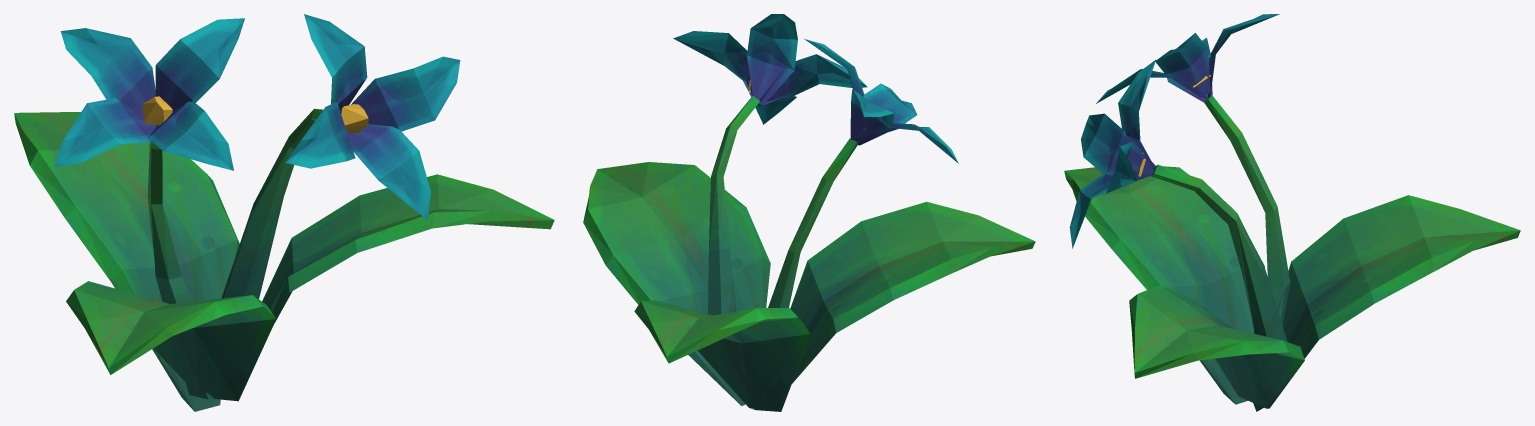
The model's file is VEG0310017.fbx.
3 renders of one model, left to right at view 1: azimuth 30°, elevation 25°; view 2: azimuth 150°, elevation 25°; view 3: azimuth 270°, elevation 25°, orthographic. The views are drawn at different scales.
Parts seen in each view (by area): view 1: smVEG0310017; view 2: smVEG0310017; view 3: smVEG0310017.
Boxes of the visible parts, x1,y1,x2,y2 form: smVEG0310017: [14, 14, 554, 411]; smVEG0310017: [583, 14, 1035, 411]; smVEG0310017: [1064, 14, 1520, 411].
Bounding box in the file's own units: 28.4 × 23.85 × 27.21.
1 material, 1 textured.
